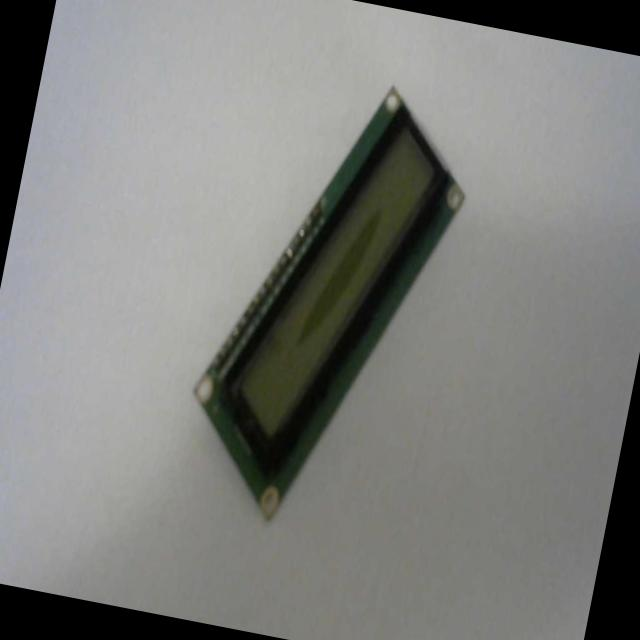lcd: (170, 57, 484, 546)
